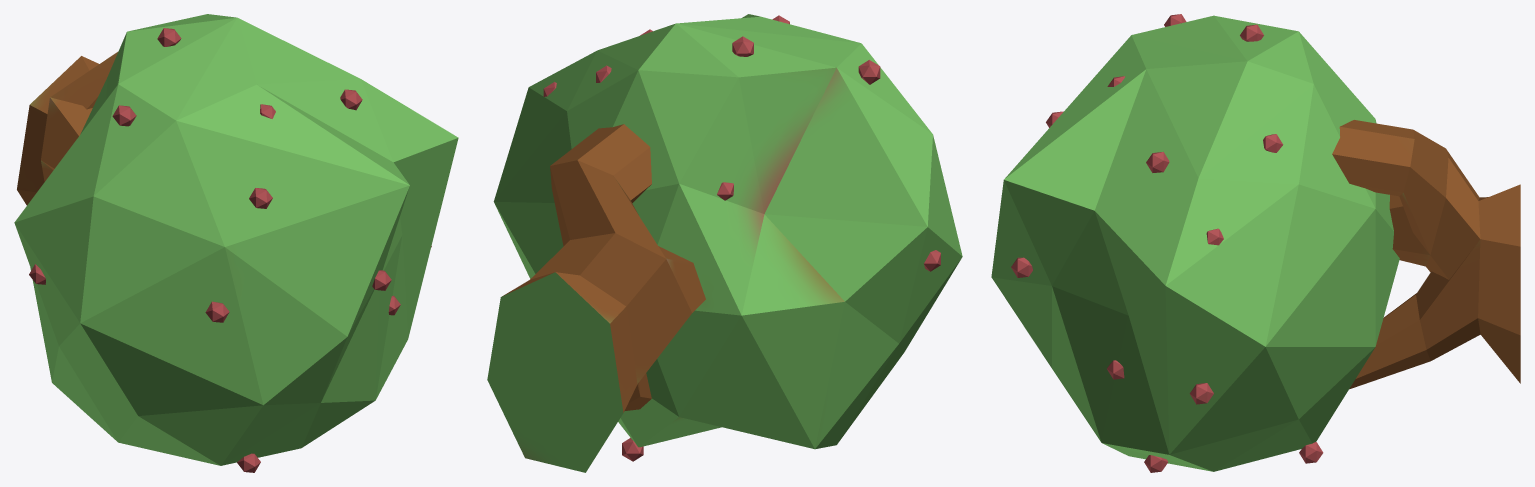
The model's file is bush.glb.
3 renders of one model, left to right at view 1: azimuth 30°, elevation 25°; view 2: azimuth 150°, elevation 25°; view 3: azimuth 270°, elevation 25°, orthographic. The views are drawn at different scales.
Parts seen in each view (by area): view 1: bush; view 2: bush; view 3: bush.
Boxes of the visible parts, x1=… form: bush: x1=14, y1=14, x2=458, y2=472; bush: x1=487, y1=14, x2=962, y2=472; bush: x1=991, y1=14, x2=1520, y2=472.
Bounding box in the file's own units: 2.52 × 2.32 × 2.78.
Materials: 1 (1 with a texture image).
